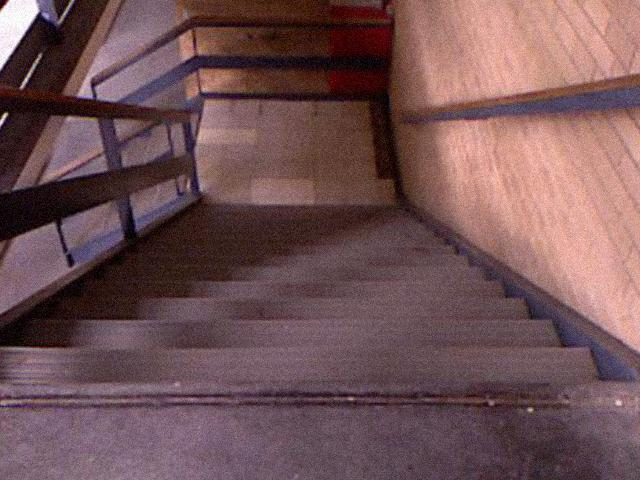Escaleras: (0, 181, 640, 413), (59, 72, 204, 229)
